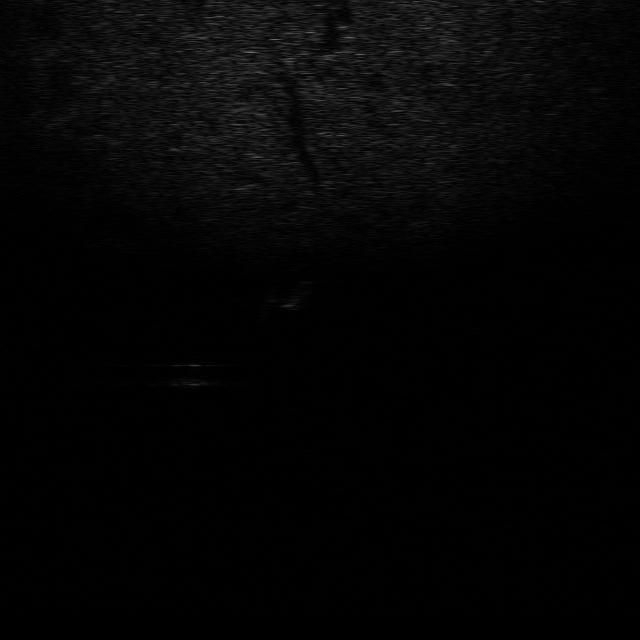ball: (169, 357, 225, 391)
human body: (255, 274, 315, 316)
